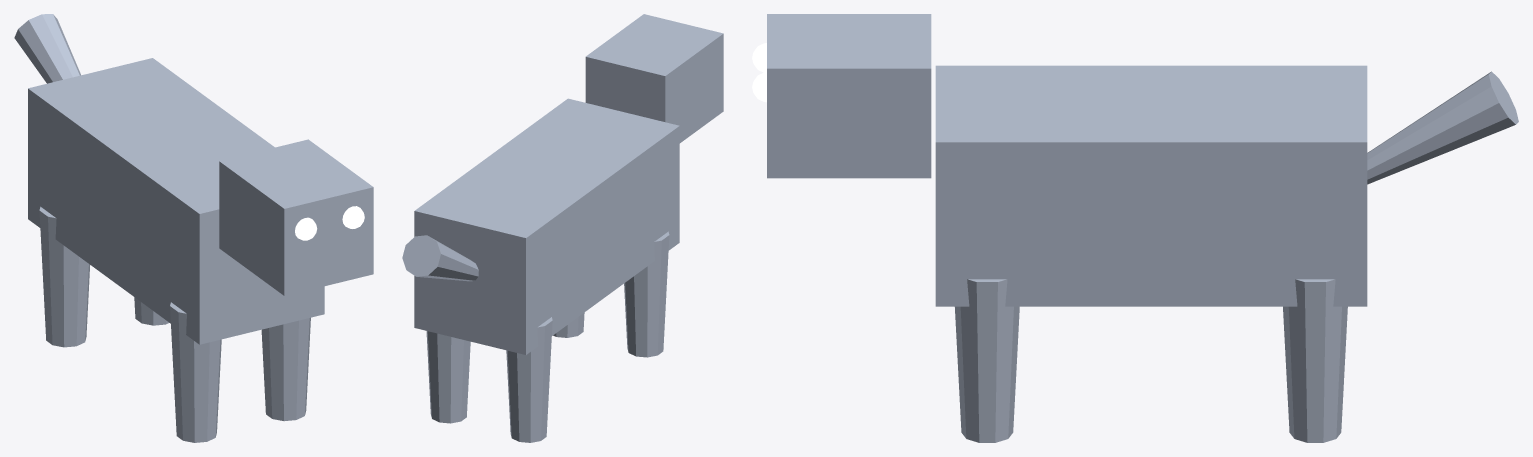
The picture shows the model from 3 angles, left to right: view 1: azimuth 30°, elevation 25°; view 2: azimuth 150°, elevation 25°; view 3: azimuth 270°, elevation 25°; orthographic projection. The views are drawn at different scales.
Visible parts, largest first — view 1: trunk, head, legFRm, legBRm, legFLm, tail, legBLm, eye, eye.001; view 2: trunk, head, legBRm, legFRm, legBLm, tail, legFLm; view 3: trunk, head, legBLm, legFLm, tail.
Boxes of the visible parts, bbox=[...] form: trunk: bbox=[28, 58, 324, 344]; head: bbox=[219, 139, 373, 295]; legFRm: bbox=[170, 302, 221, 442]; legBRm: bbox=[39, 206, 89, 347]; legFLm: bbox=[261, 317, 310, 421]; tail: bbox=[14, 14, 80, 83]; legBLm: bbox=[134, 297, 169, 325]; eye: bbox=[295, 217, 317, 240]; eye.001: bbox=[342, 206, 364, 228]; trunk: bbox=[414, 98, 679, 354]; head: bbox=[585, 14, 723, 143]; legBRm: bbox=[506, 317, 552, 442]; legFRm: bbox=[624, 231, 669, 357]; legBLm: bbox=[426, 331, 470, 423]; tail: bbox=[402, 235, 478, 281]; legFLm: bbox=[553, 312, 584, 337]; trunk: bbox=[935, 65, 1367, 306]; head: bbox=[767, 14, 931, 178]; legBLm: bbox=[1283, 279, 1347, 442]; legFLm: bbox=[955, 279, 1019, 442]; tail: bbox=[1367, 71, 1518, 184].
Size of the model in its own units: 0.4522 by 0.93 by 1.78.
